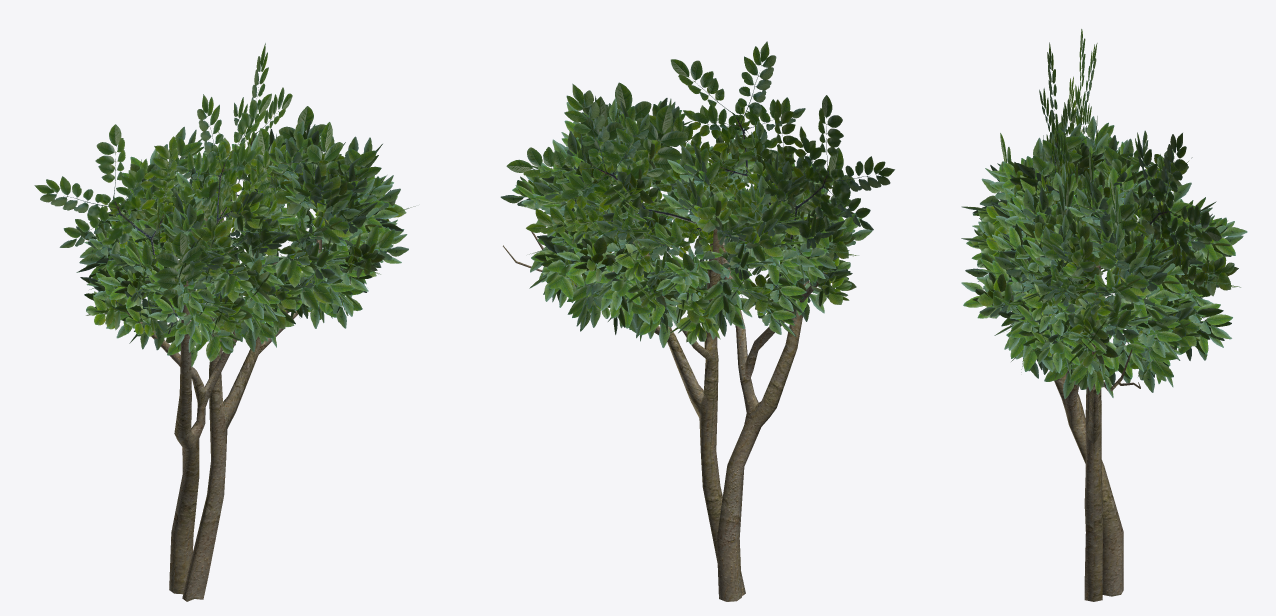
The model's file is tree3LOD.FBX.
3 renders of one model, left to right at view 1: azimuth 30°, elevation 25°; view 2: azimuth 150°, elevation 25°; view 3: azimuth 270°, elevation 25°, orthographic. The views are drawn at different scales.
Parts seen in each view (by area): view 1: Object231, tree3UV; view 2: Object231, tree3UV; view 3: Object231, tree3UV.
Boxes of the visible parts, <box> form: Object231: <box>34,43,415,367</box>; tree3UV: <box>116,210,321,601</box>; Object231: <box>500,41,894,347</box>; tree3UV: <box>503,201,825,601</box>; Object231: <box>961,29,1247,398</box>; tree3UV: <box>1035,243,1140,601</box>.
Bounding box in the file's own units: 803 × 518 × 1026.
